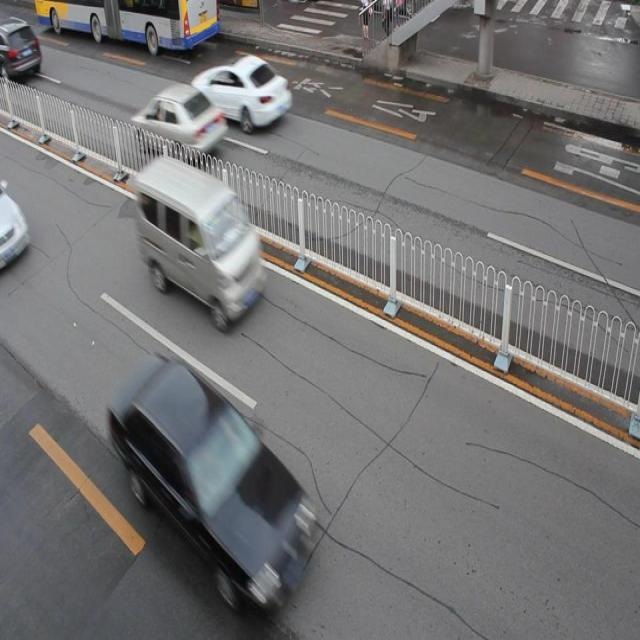car: (112, 358, 309, 607), (192, 52, 292, 132), (132, 82, 228, 162), (1, 15, 42, 85)
truck: (135, 157, 264, 321)
van: (36, 2, 219, 48)
